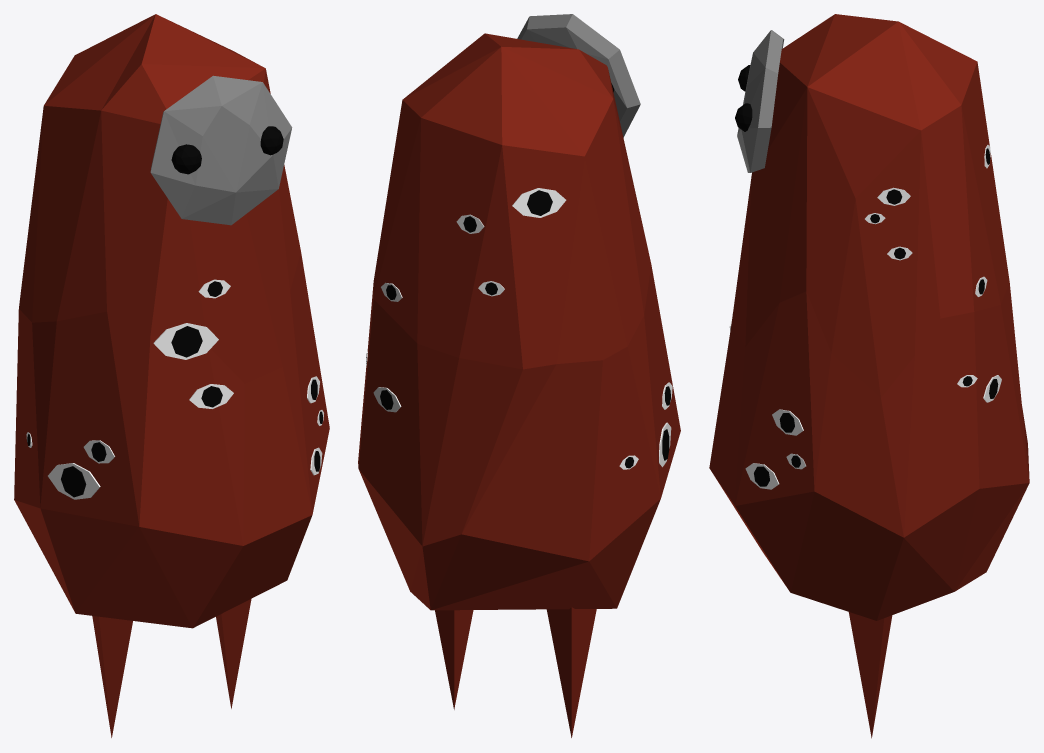
File: GoonBase_Final_NoAnim.fbx
3 renders of one model, left to right at view 1: azimuth 30°, elevation 25°; view 2: azimuth 150°, elevation 25°; view 3: azimuth 270°, elevation 25°, orthographic.
Visible parts, largest first — view 1: GoonBase; view 2: GoonBase; view 3: GoonBase.
Part boxes in pixels (x1=…): GoonBase: x1=14, y1=14, x2=329, y2=737; GoonBase: x1=358, y1=14, x2=680, y2=737; GoonBase: x1=709, y1=14, x2=1029, y2=738.
Bounding box in the file's own units: 110 × 261 × 110.
